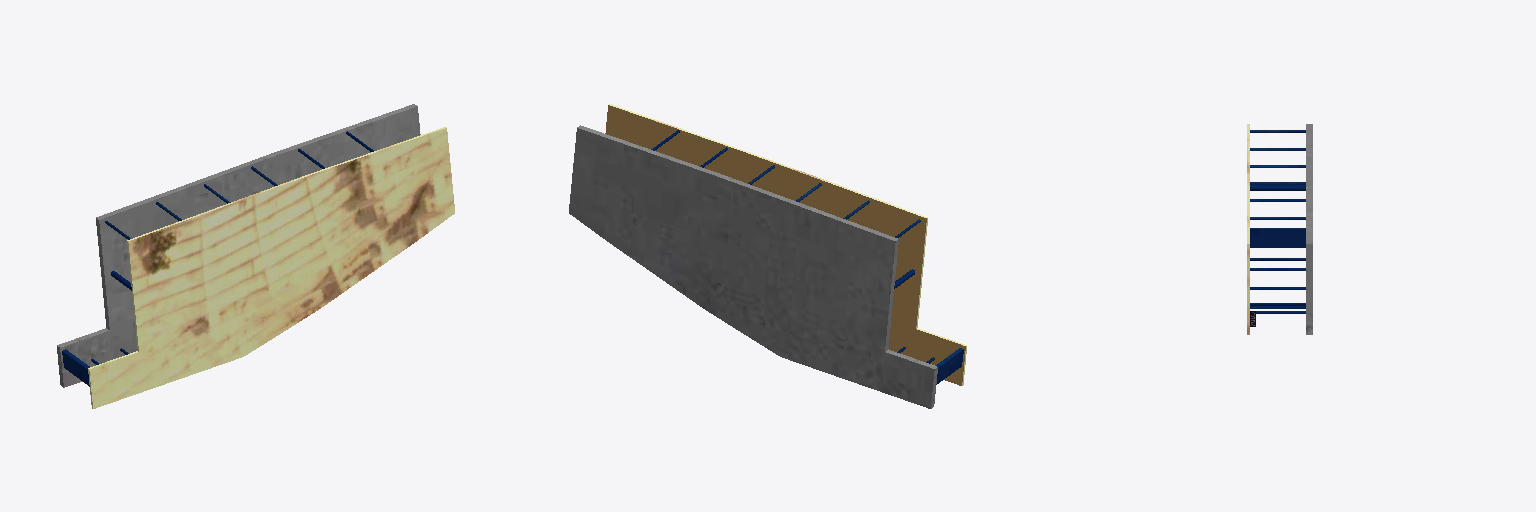
3 views of the same model, side by side, from view 1: azimuth 30°, elevation 25°; view 2: azimuth 150°, elevation 25°; view 3: azimuth 270°, elevation 25° (orthographic).
Visible parts, largest first — view 1: polygon.848; view 2: polygon.848; view 3: polygon.848.
Boxes of the visible parts, <box> form: polygon.848: <box>57,104,454,408</box>; polygon.848: <box>569,104,966,408</box>; polygon.848: <box>1247,124,1312,334</box>.
Bounding box in the file's own units: 30.56 × 15.58 × 4.72.
Materials: 1 (1 with a texture image).